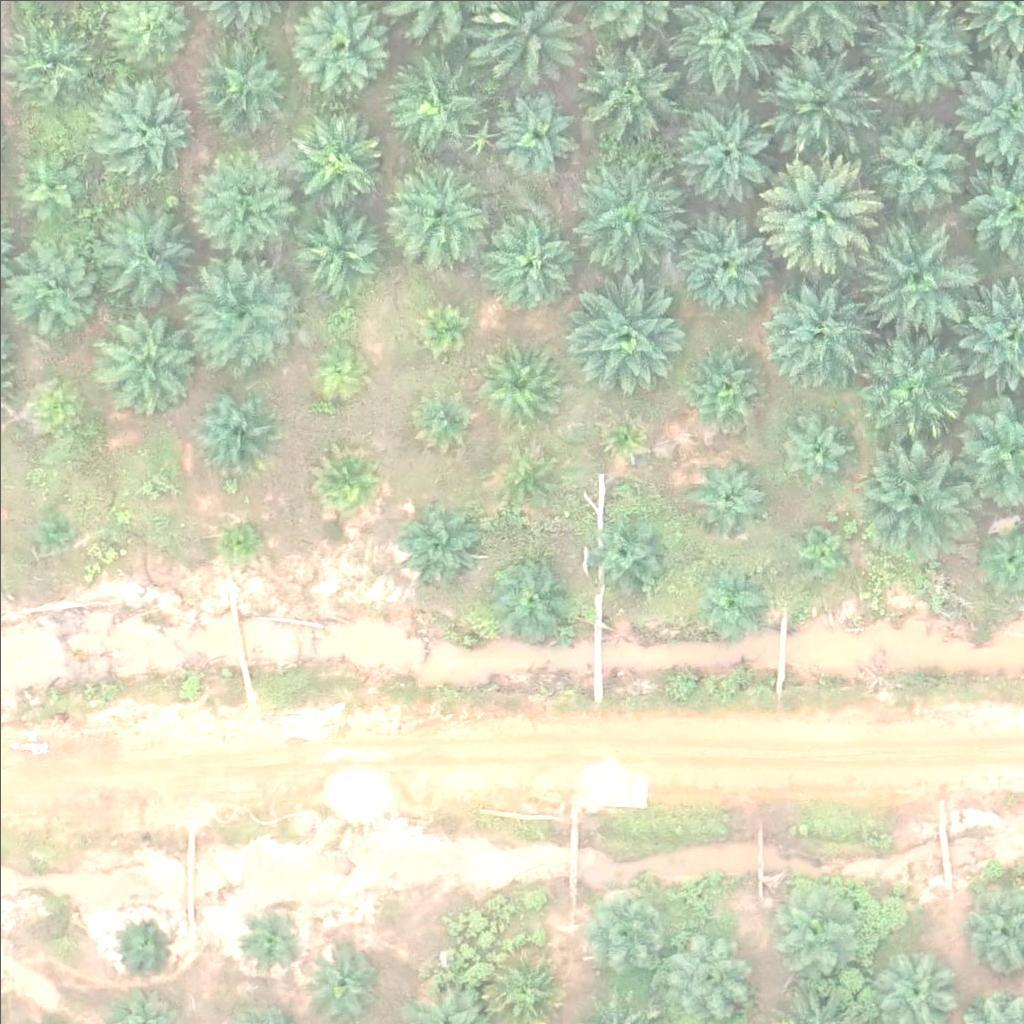Kelapa_Sawit: (567, 281, 680, 395), (766, 156, 879, 270), (853, 322, 966, 435), (861, 439, 974, 552), (188, 258, 300, 372), (863, 216, 975, 330), (568, 148, 680, 261), (764, 42, 876, 155), (758, 274, 870, 387), (93, 303, 193, 404), (195, 146, 295, 247), (672, 213, 772, 314), (1, 9, 101, 109), (92, 197, 192, 297), (99, 77, 199, 177), (288, 109, 388, 209), (387, 52, 487, 152), (391, 160, 491, 260), (480, 212, 580, 312), (583, 44, 683, 144), (676, 99, 776, 199), (866, 119, 966, 219), (761, 870, 861, 970), (192, 387, 280, 475), (199, 40, 287, 128), (294, 206, 382, 294), (586, 510, 674, 598), (491, 87, 579, 175), (680, 343, 768, 431), (662, 930, 749, 1019), (486, 554, 573, 642), (477, 339, 564, 427), (584, 885, 671, 973), (402, 498, 477, 574), (693, 456, 768, 532), (305, 938, 380, 1013), (12, 152, 87, 227), (703, 572, 766, 635), (314, 451, 377, 514), (244, 909, 307, 972), (783, 417, 845, 480), (112, 913, 174, 976), (492, 445, 554, 508), (317, 344, 367, 395), (415, 302, 465, 352), (420, 394, 470, 444), (793, 525, 843, 575), (37, 506, 75, 544), (224, 522, 261, 560), (48, 388, 85, 425), (609, 422, 646, 459), (147, 471, 172, 497)
